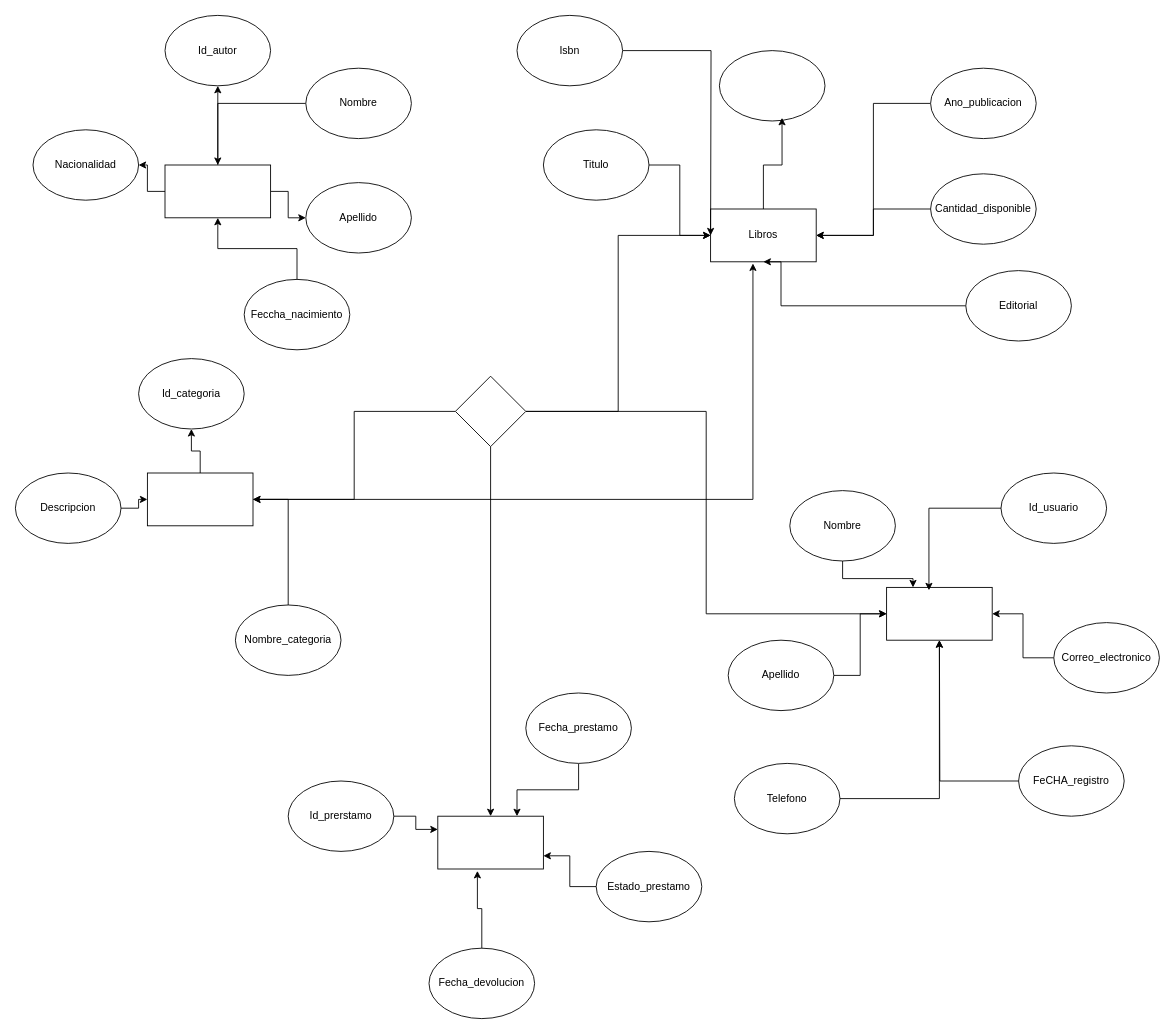
Some shapes in this 1175 by 1034 pixel diagram are drawn without their labels. The shapes that lost their labels are listed below. From the top down, each one's box as (x1, y1, x2, y2) in pixels, then its label:
(719, 50, 825, 121): Id_libro
(164, 164, 271, 218): Autores
(455, 375, 526, 447): Biblioteca
(147, 472, 253, 526): Categorias
(886, 587, 992, 640): Usuario
(437, 815, 543, 869): Prestamos
